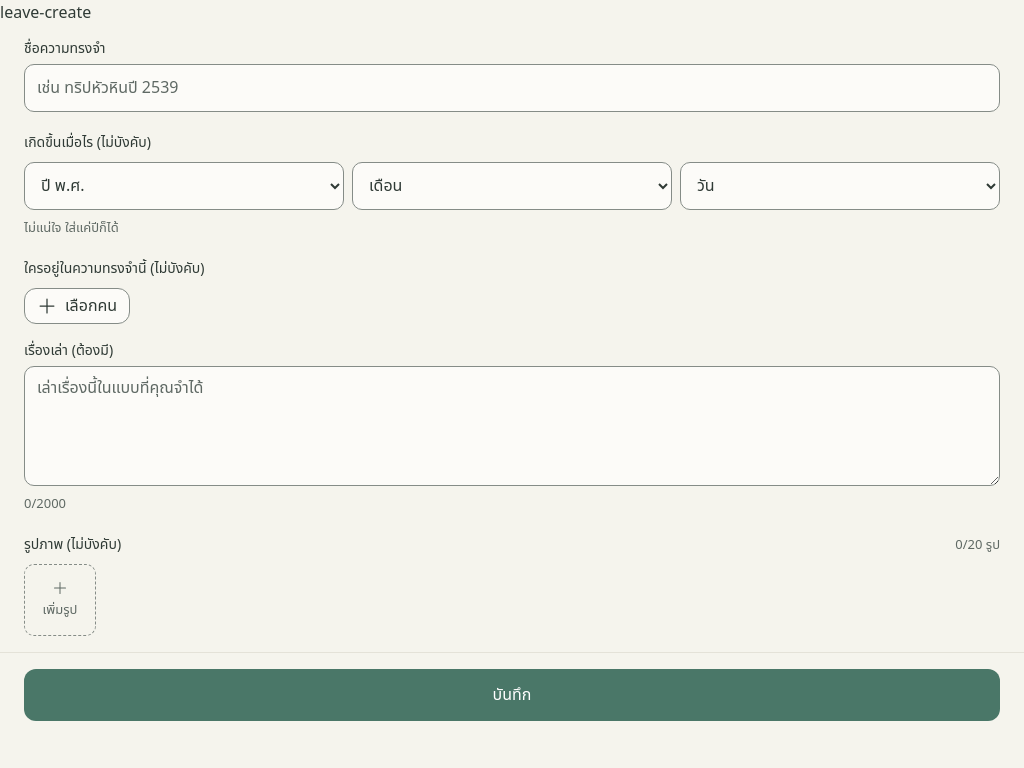
Test: CreateMemoryPage › uses add_empty when the people search query is blank
What coordinates should you click on to do the following:
click the button "เลือกคน"
I would click on:
 (77, 306)
Its box is left=24, top=288, right=130, bottom=324.
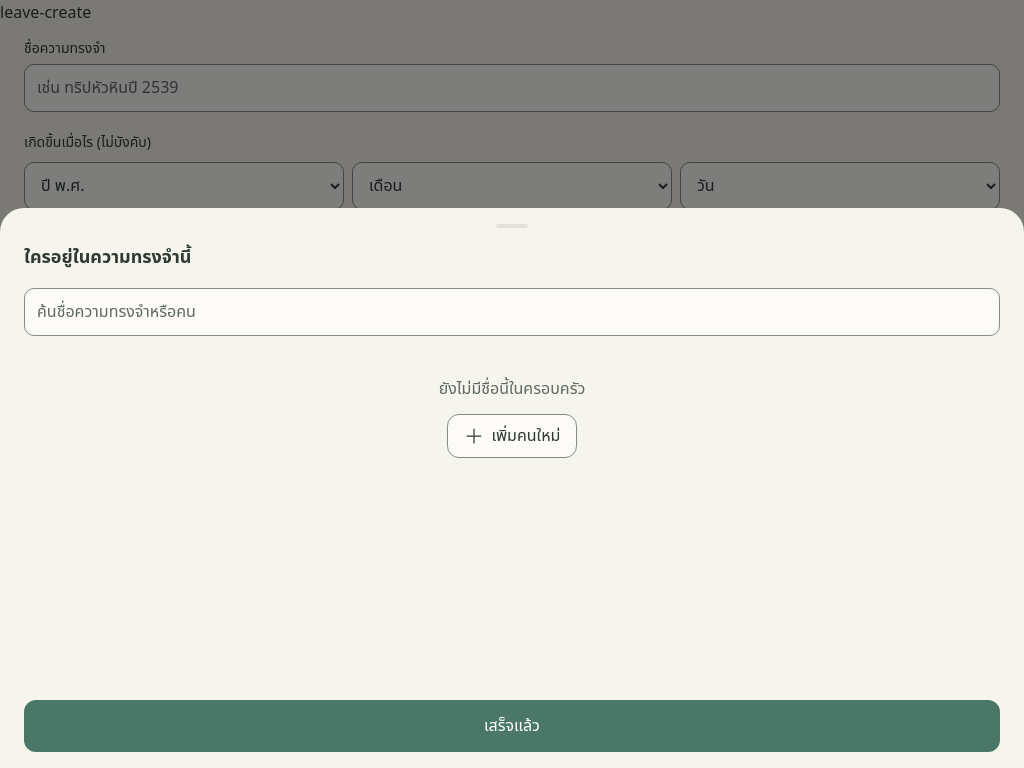
Check: the text "ยังไม่มีชื่อนี้ในครอบครัว" is shown, box left=439, top=376, right=585, bottom=402
